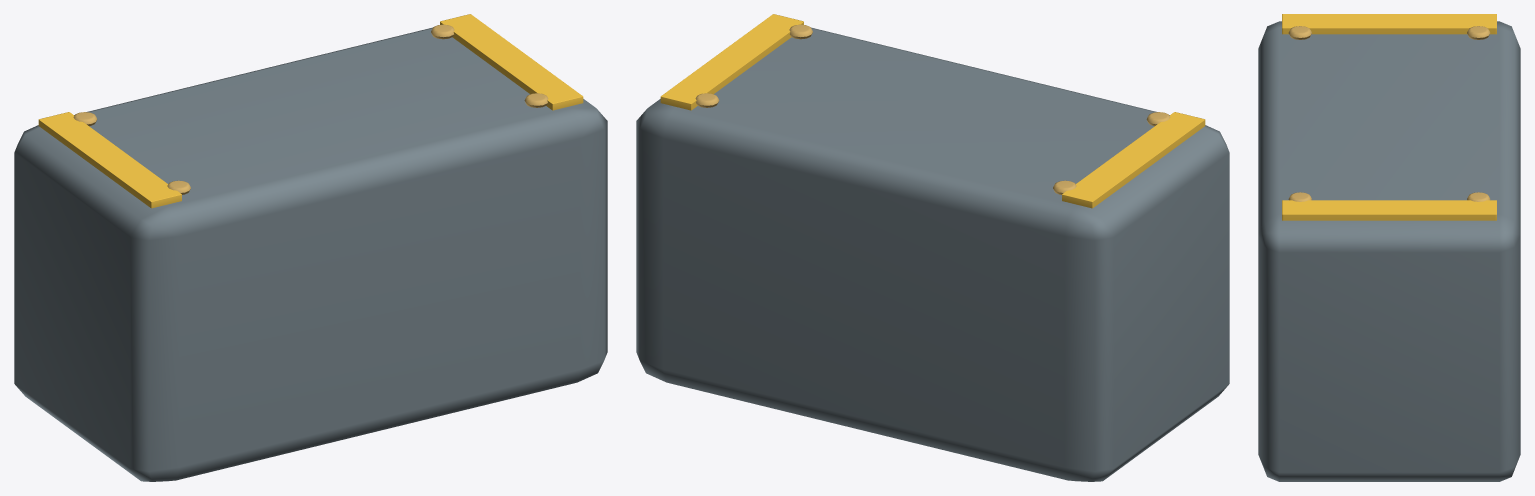
Rendered from wall_steel_2m.glb.
3 renders of one model, left to right at view 1: azimuth 30°, elevation 25°; view 2: azimuth 150°, elevation 25°; view 3: azimuth 270°, elevation 25°, orthographic. The views are drawn at different scales.
Parts seen in each view (by area): view 1: Steel barrier, Safety edge, Safety edge.001; view 2: Steel barrier, Safety edge, Safety edge.001; view 3: Steel barrier, Safety edge.001, Safety edge.
Boxes of the visible parts, left/top/right/bottom form: Steel barrier: left=14, top=27, right=607, bottom=481; Safety edge: left=38, top=112, right=181, bottom=208; Safety edge.001: left=440, top=14, right=583, bottom=110; Steel barrier: left=636, top=27, right=1229, bottom=481; Safety edge: left=1062, top=112, right=1205, bottom=208; Safety edge.001: left=660, top=14, right=803, bottom=110; Steel barrier: left=1258, top=21, right=1520, bottom=481; Safety edge.001: left=1282, top=200, right=1496, bottom=220; Safety edge: left=1282, top=14, right=1496, bottom=34.
Size of the model in its own units: 2 by 1.14 by 1.
